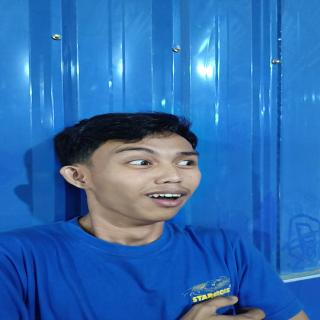Takut: (79, 128, 207, 227)
